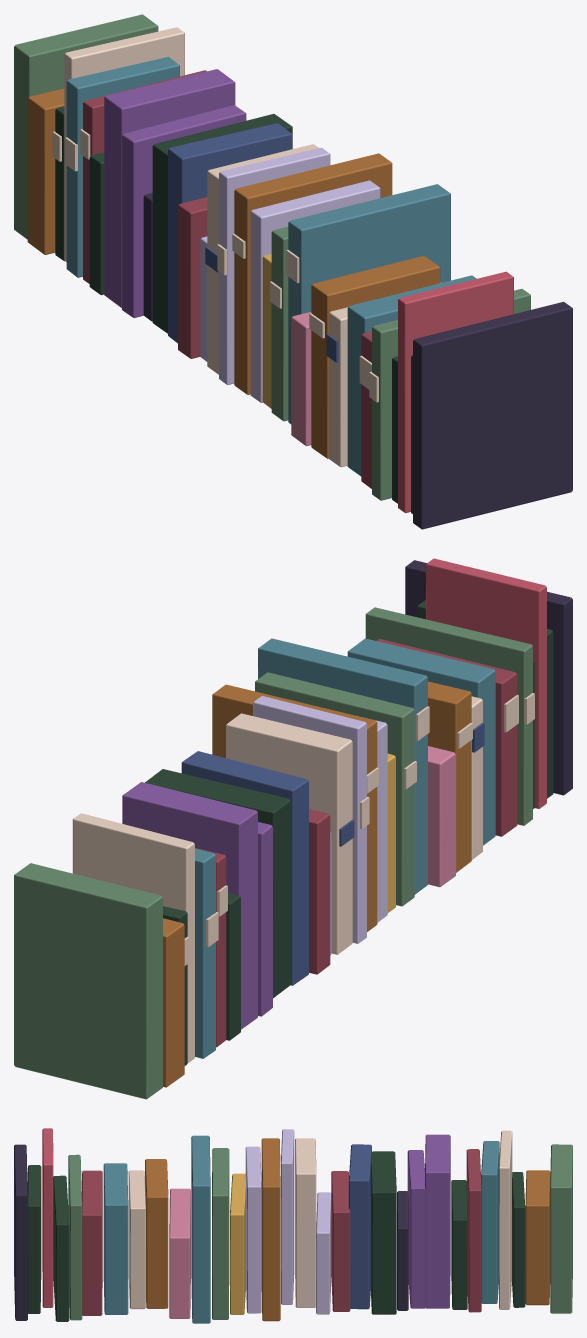
The model's file is books_shelf_3.fbx.
3 views of the same model, one above another, from view 1: azimuth 30°, elevation 25°; view 2: azimuth 150°, elevation 25°; view 3: azimuth 270°, elevation 25° (orthographic). The views are drawn at different scales.
Visible parts, largest first — view 1: books_shelf_3; view 2: books_shelf_3; view 3: books_shelf_3.
Part boxes in pixels (left/top/right/bottom): books_shelf_3: left=14, top=14, right=572, bottom=529; books_shelf_3: left=14, top=558, right=572, bottom=1099; books_shelf_3: left=14, top=1128, right=572, bottom=1323.
Bounding box in the file's own units: 0.244 × 0.2992 × 1.05.
